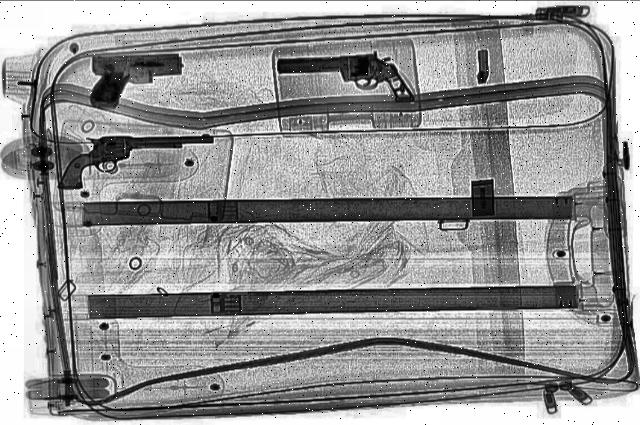Gun: (54, 134, 216, 188), (274, 50, 414, 108), (86, 52, 186, 108)
